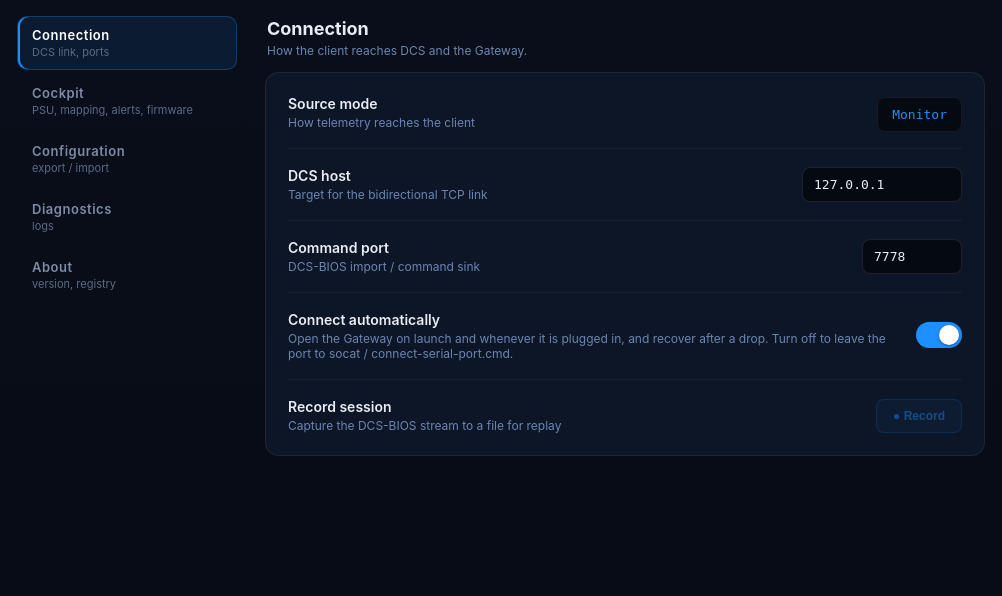
Test: T36 Settings › Configuration › Automatic backups (#136) › lists the backups main keeps, newest first: when, what they were before, what they hold
Step 1. Click the button "Configuration export / import" → (127, 159), box 17,132 -> 237,186
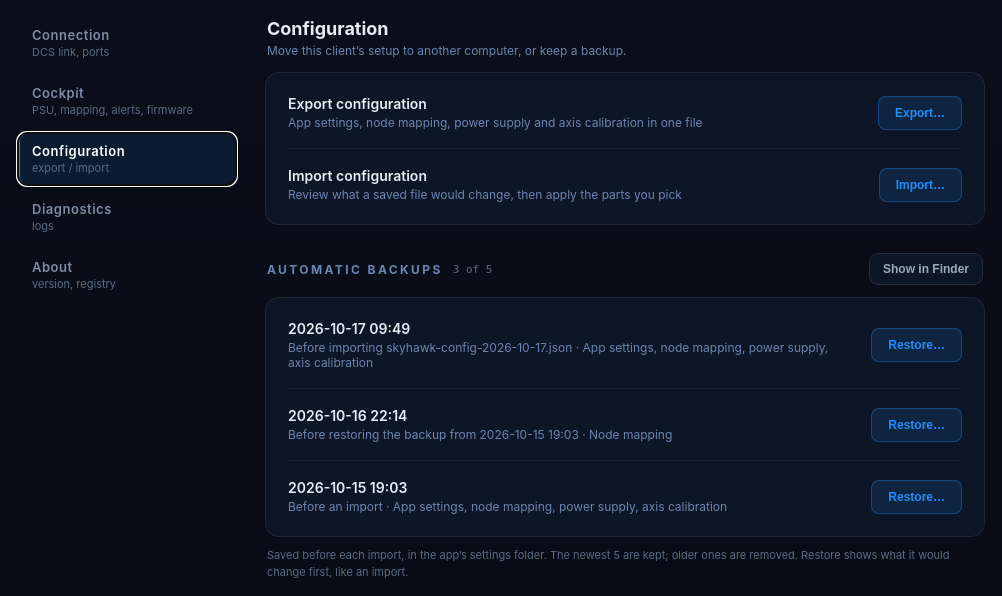
Now the button with aria-label "Restore the backup from " reads "Restore…", box 871,328 -> 962,362
